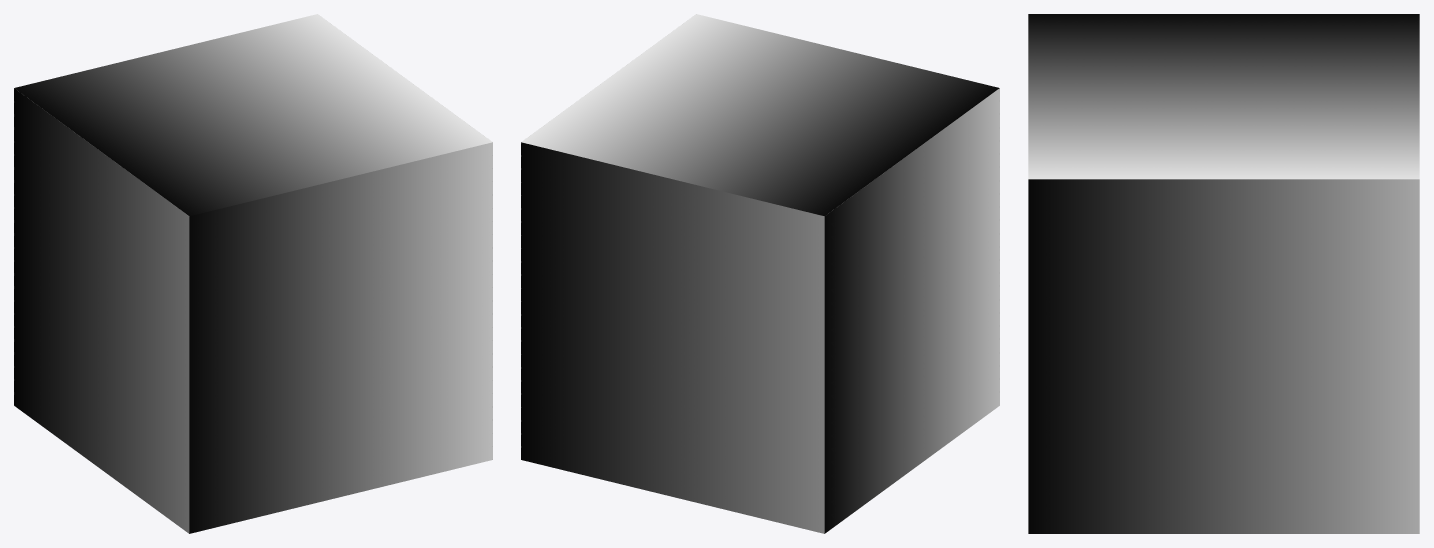
The model's file is box-animated.glb.
3 renders of one model, left to right at view 1: azimuth 30°, elevation 25°; view 2: azimuth 150°, elevation 25°; view 3: azimuth 270°, elevation 25°, orthographic. The views are drawn at different scales.
Visible parts, largest first — view 1: box; view 2: box; view 3: box.
Part boxes in pixels (x1=…): box: x1=14, y1=14, x2=492, y2=533; box: x1=521, y1=14, x2=999, y2=533; box: x1=1028, y1=14, x2=1419, y2=533.
Size of the model in its own units: 1 by 1 by 1.
Materials: 1 (1 with a texture image).
